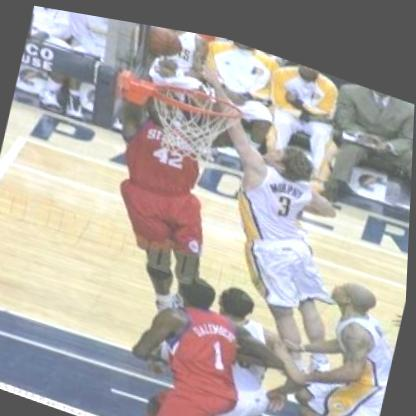basketball: (143, 19, 188, 61)
